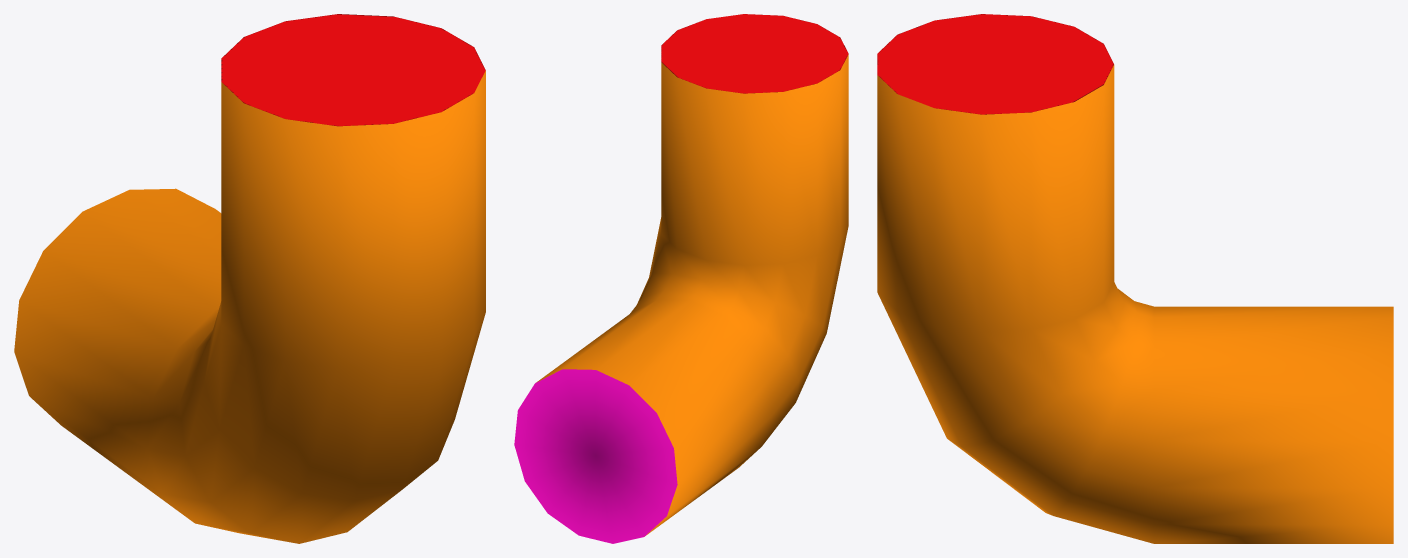
The model's file is pipe_curved.glb.
3 views of the same model, side by side, from view 1: azimuth 30°, elevation 25°; view 2: azimuth 150°, elevation 25°; view 3: azimuth 270°, elevation 25° (orthographic). The views are drawn at different scales.
Visible parts, largest first — view 1: pipe_curved; view 2: pipe_curved; view 3: pipe_curved.
Boxes of the visible parts, left/top/right/bottom form: pipe_curved: left=14, top=14, right=485, bottom=543; pipe_curved: left=514, top=14, right=848, bottom=543; pipe_curved: left=877, top=14, right=1393, bottom=543.
Size of the model in its own units: 0.5967 by 1.29 by 1.29.
Materials: 1 (1 with a texture image).
